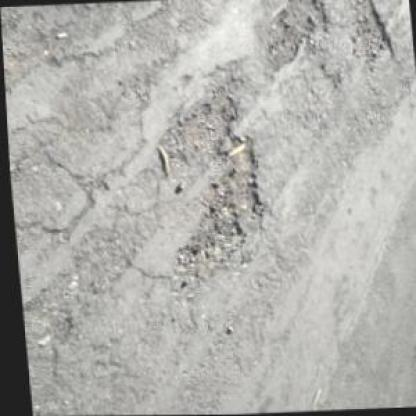pothole: (148, 86, 268, 280), (343, 0, 395, 75)
